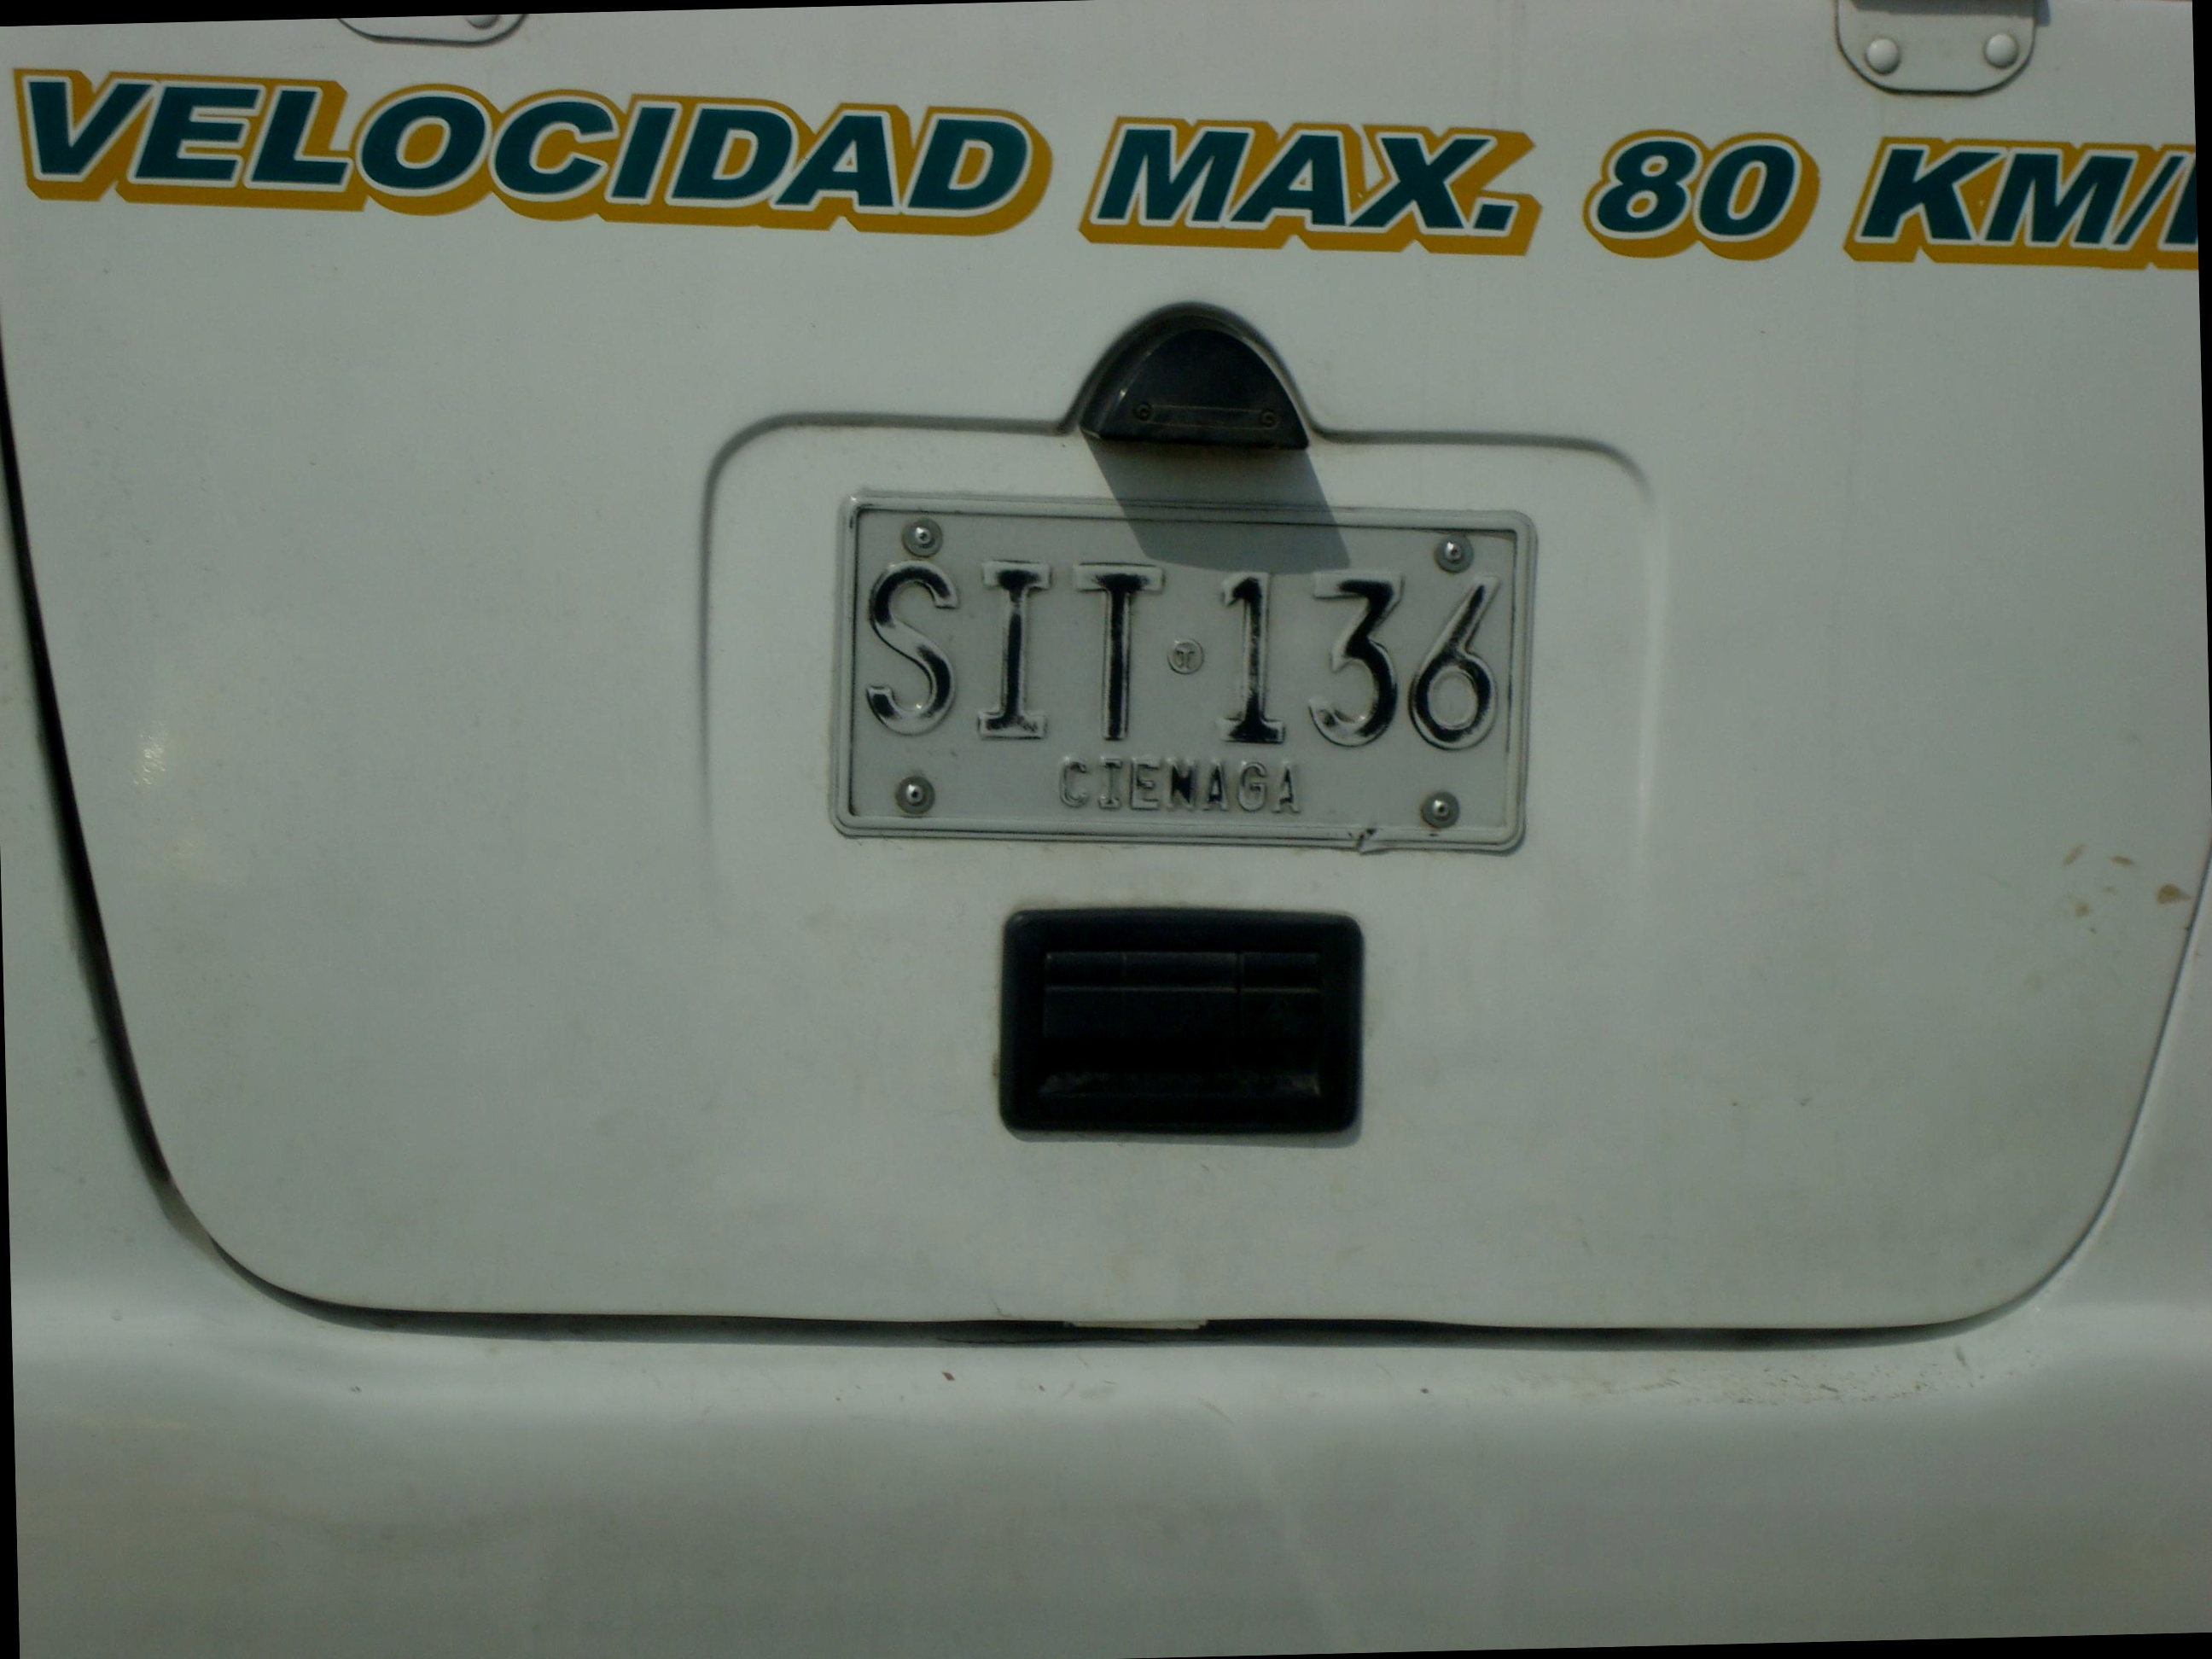placas: (806, 433, 1560, 888)
